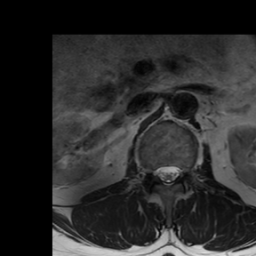CCS_normal: (165, 158, 171, 192)
LFS_normal: (180, 161, 188, 182)
LLS_normal: (171, 158, 179, 186)
RFS_stenosis: (148, 158, 157, 182)
RLS_normal: (157, 158, 165, 185)
